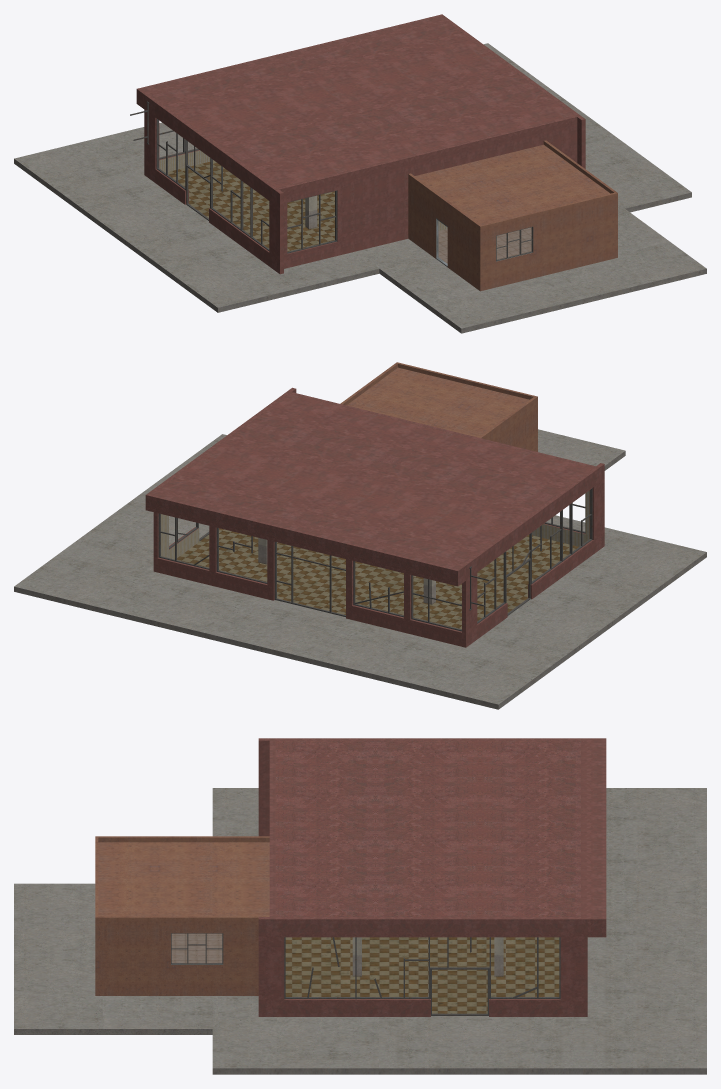
Rendered from Building_Jb01_2048.glb.
The picture shows the model from 3 angles, top to bottom: view 1: azimuth 30°, elevation 25°; view 2: azimuth 150°, elevation 25°; view 3: azimuth 270°, elevation 25°; orthographic projection. The views are drawn at different scales.
Parts seen in each view (by area): view 1: xiutz_jb_01; view 2: xiutz_jb_01; view 3: xiutz_jb_01.
Boxes of the visible parts, x1,y1,x2,y2 form: xiutz_jb_01: [14, 14, 706, 333]; xiutz_jb_01: [14, 362, 706, 709]; xiutz_jb_01: [14, 738, 706, 1074].
Bounding box in the file's own units: 38.07 × 6.57 × 39.77.
1 material, 1 textured.
